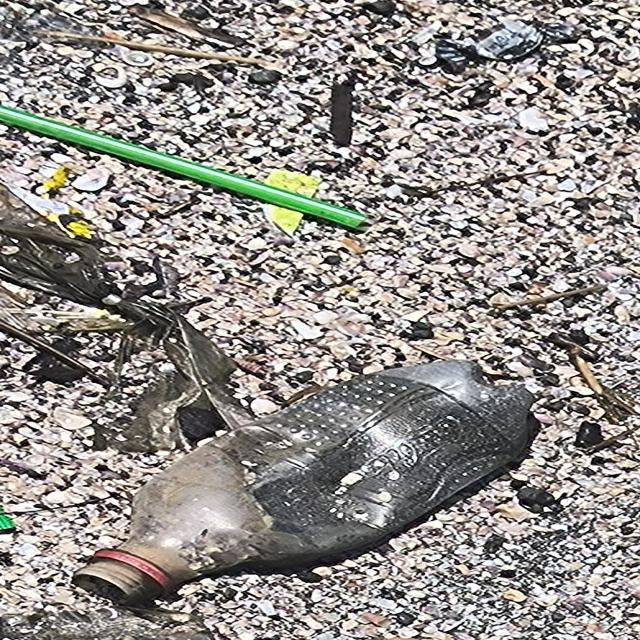plastic_waste: (74, 358, 542, 606), (1, 105, 370, 227)
